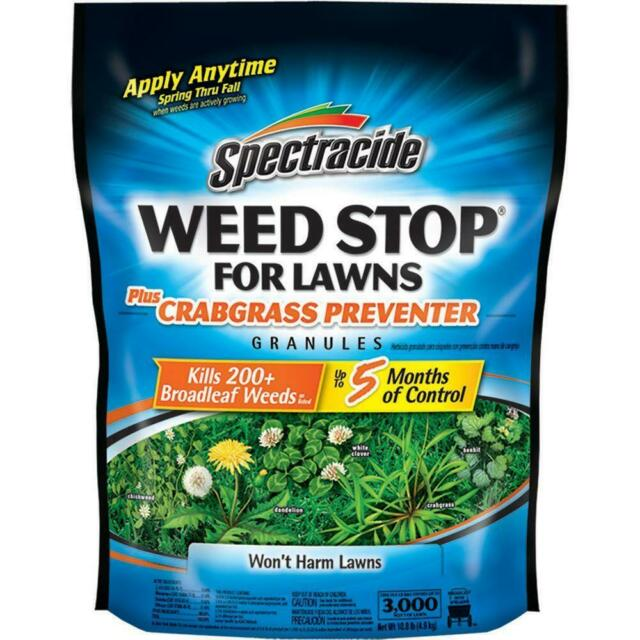crabgrass: (349, 454, 462, 550)
